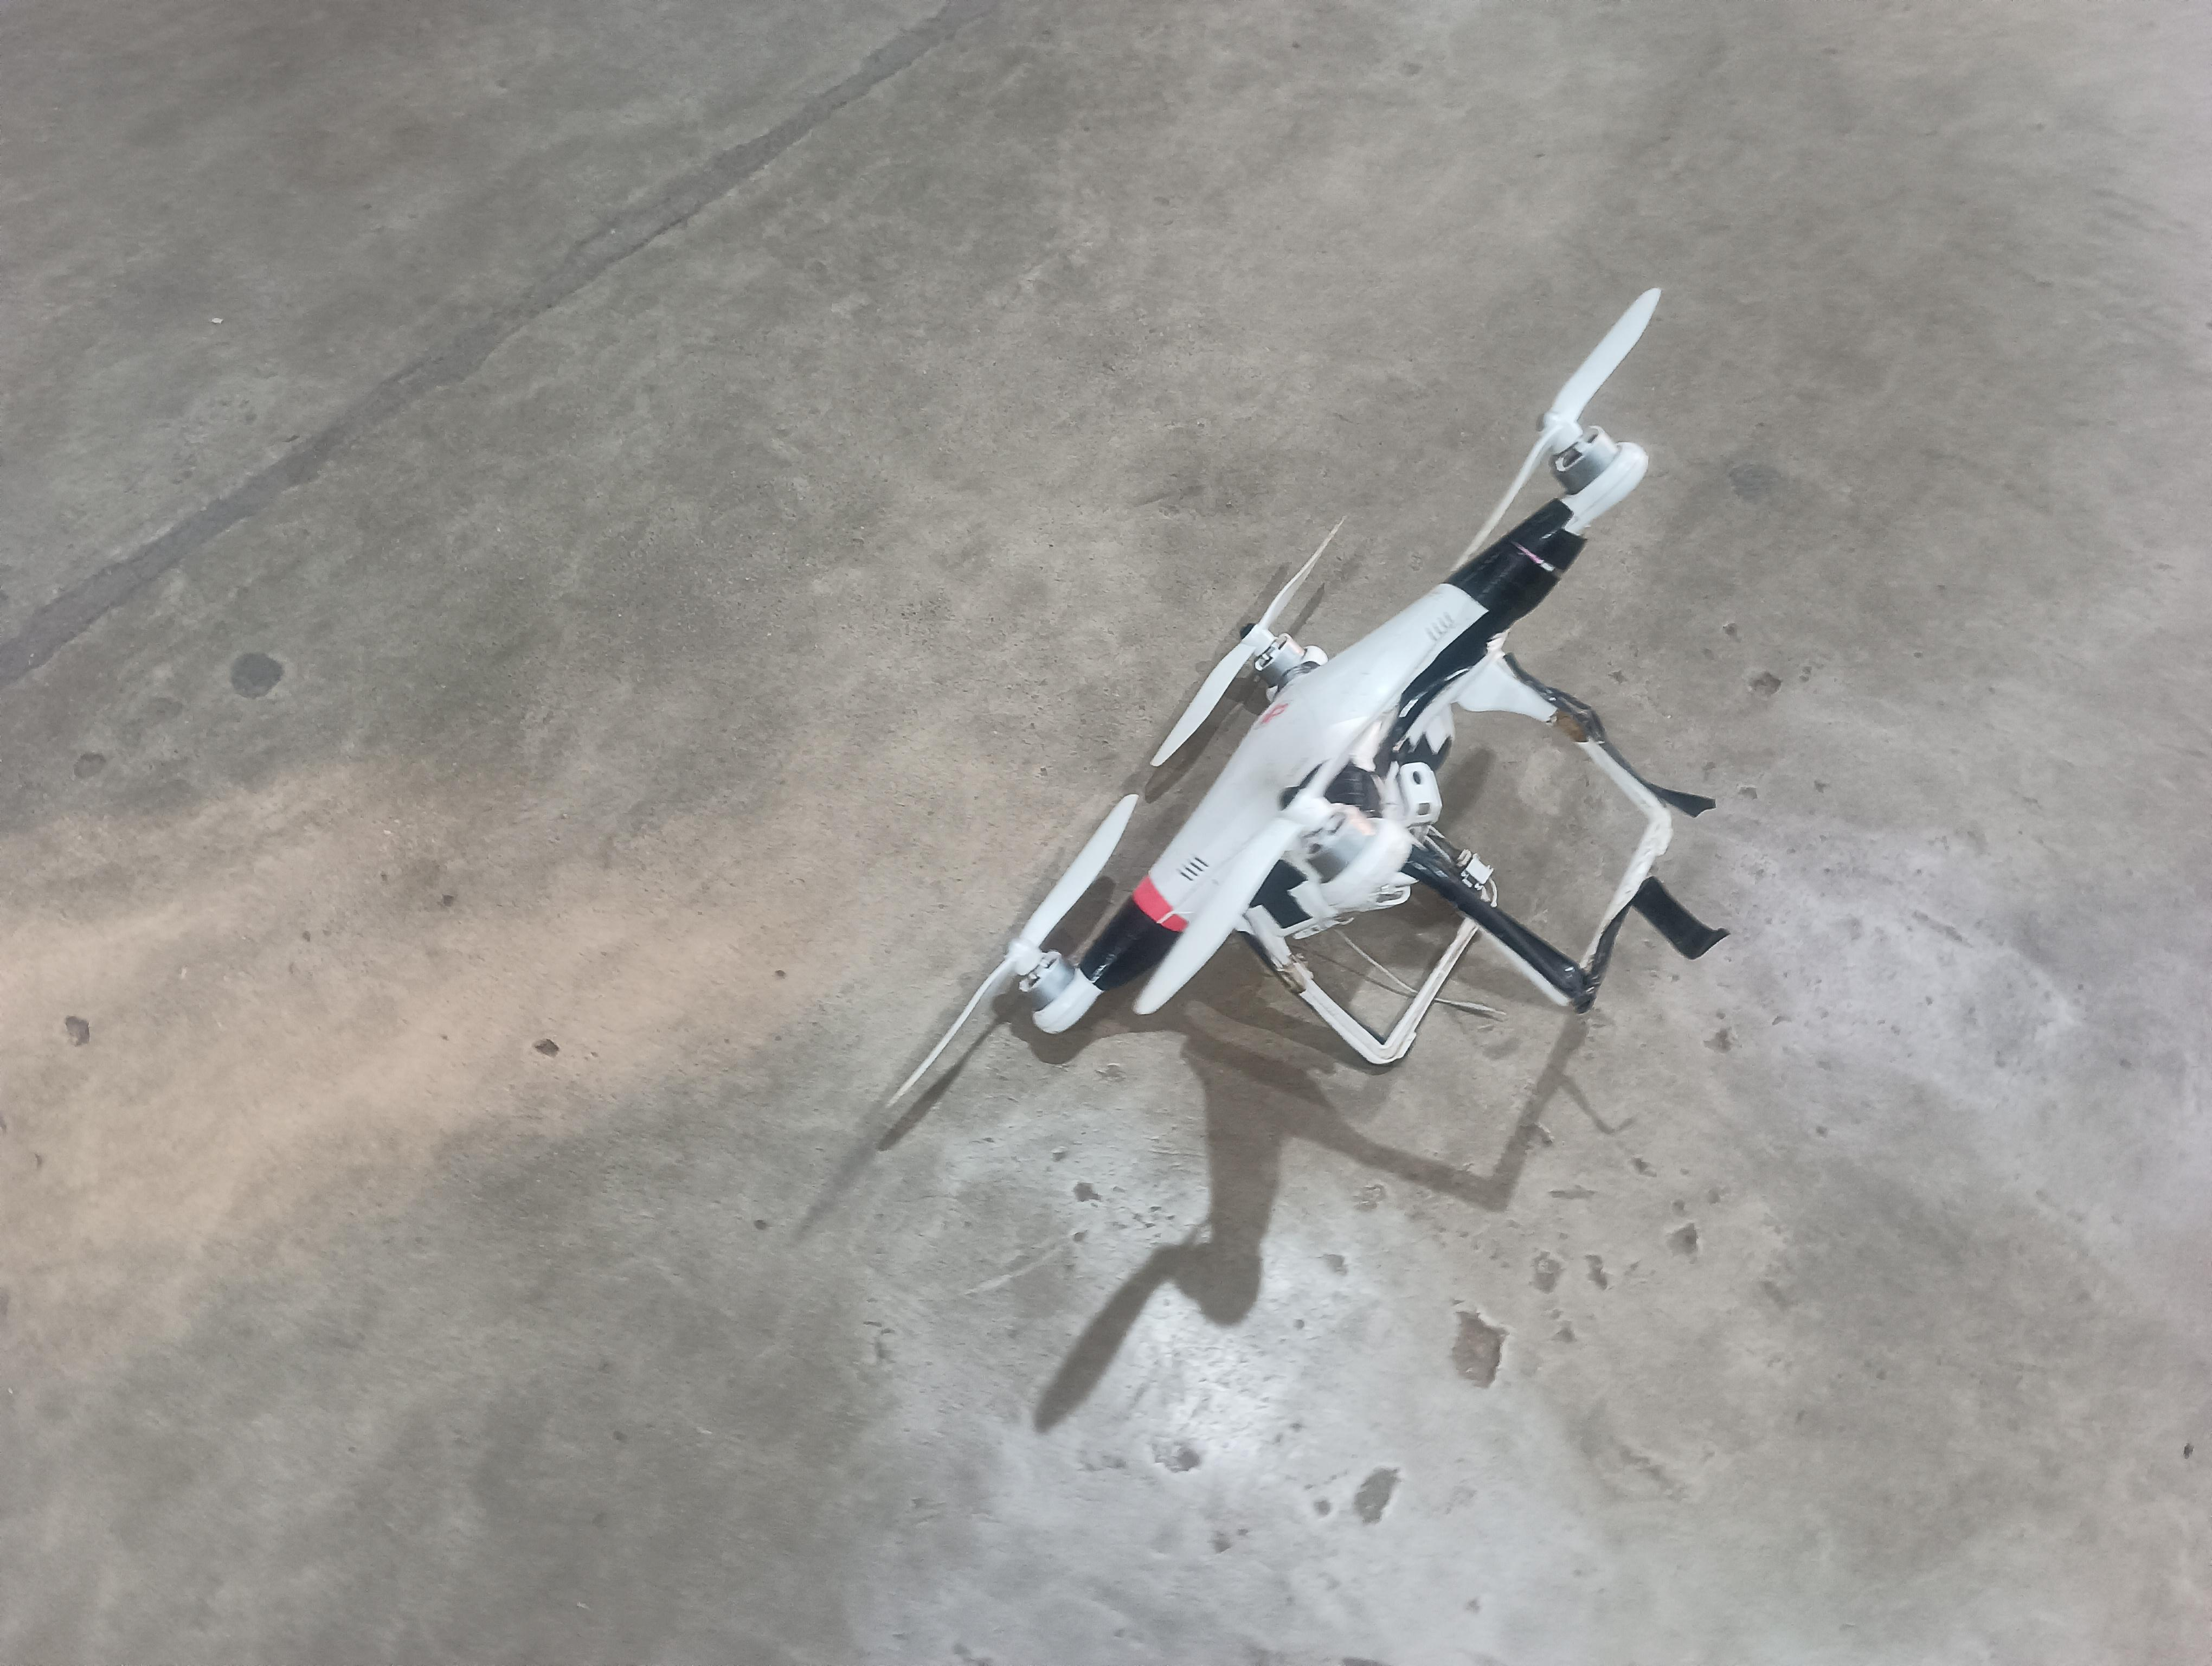drone: (836, 223, 1829, 1238)
